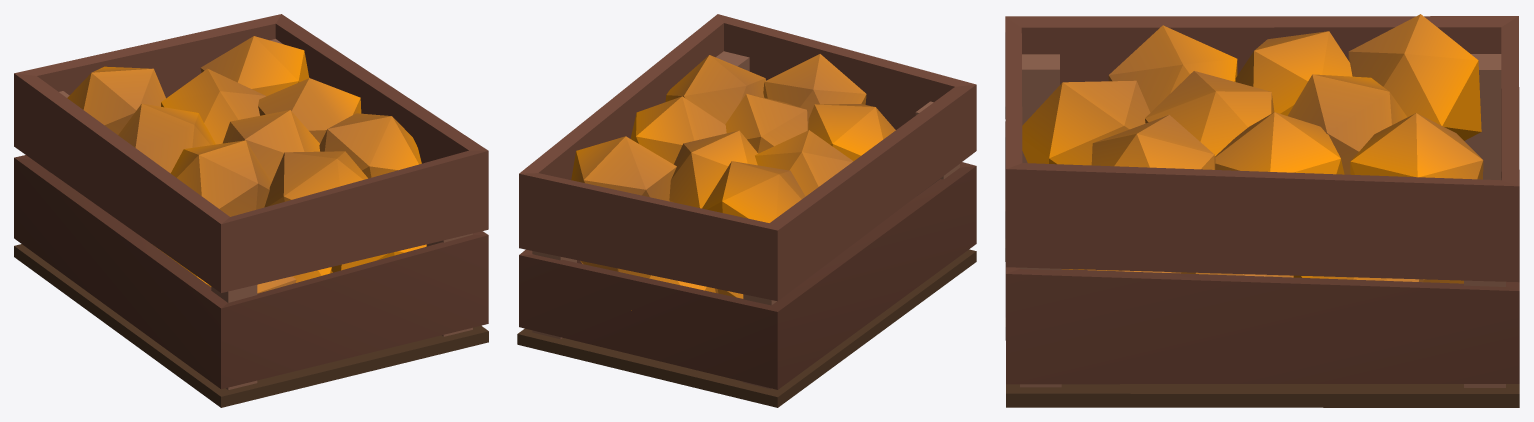
File: Fruit 3.glb
3 views of the same model, side by side, from view 1: azimuth 30°, elevation 25°; view 2: azimuth 150°, elevation 25°; view 3: azimuth 270°, elevation 25° (orthographic). The views are drawn at different scales.
Visible parts, largest first — view 1: Fruit 3; view 2: Fruit 3; view 3: Fruit 3.
Boxes of the visible parts, box(x1,y1,x2,y2) form: Fruit 3: box(14, 14, 488, 407); Fruit 3: box(517, 14, 976, 407); Fruit 3: box(1005, 14, 1519, 407).
Size of what is drawn, in the model's own units: 0.4641 by 0.3357 by 0.6169.
1 material, 1 textured.
